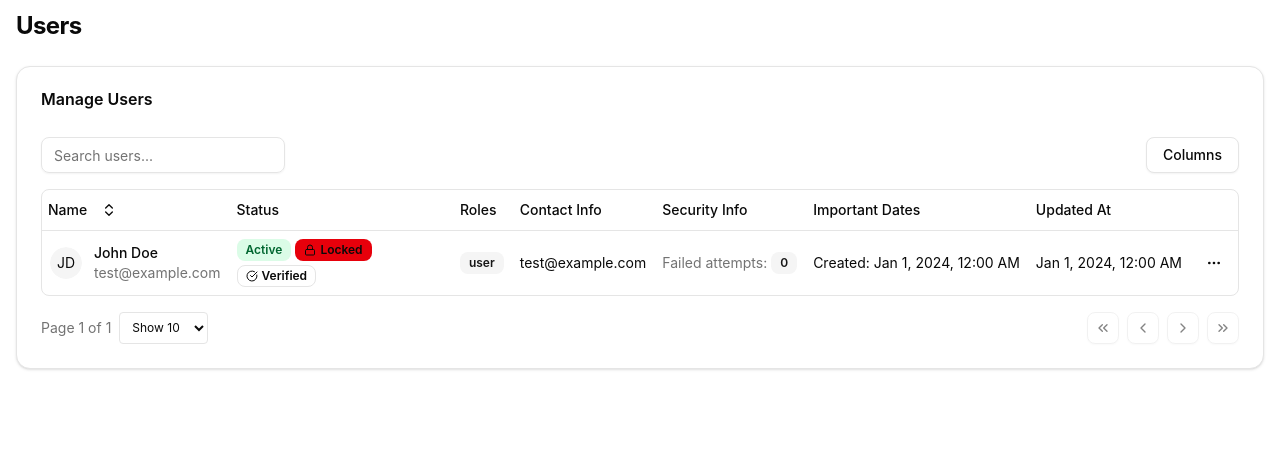
Scenario: UsersList Component › Permission-Based Behavior › shows unlock account option for locked users with update permission
The image size is (1281, 451).
Click the 1st button named "open menu". click: (1214, 262)
box: [1198,246,1230,278]
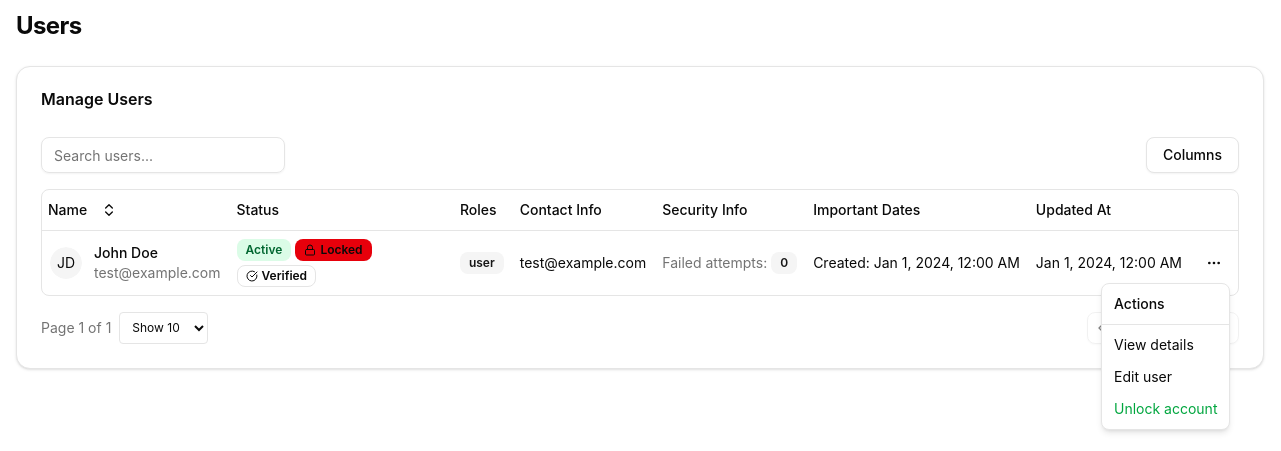
Check: the menu item "Unlock account" is shown, box [1114,400,1218,417]
